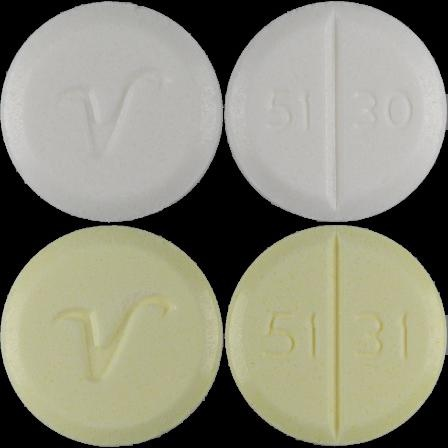0603-5371: (0, 0, 224, 224)
